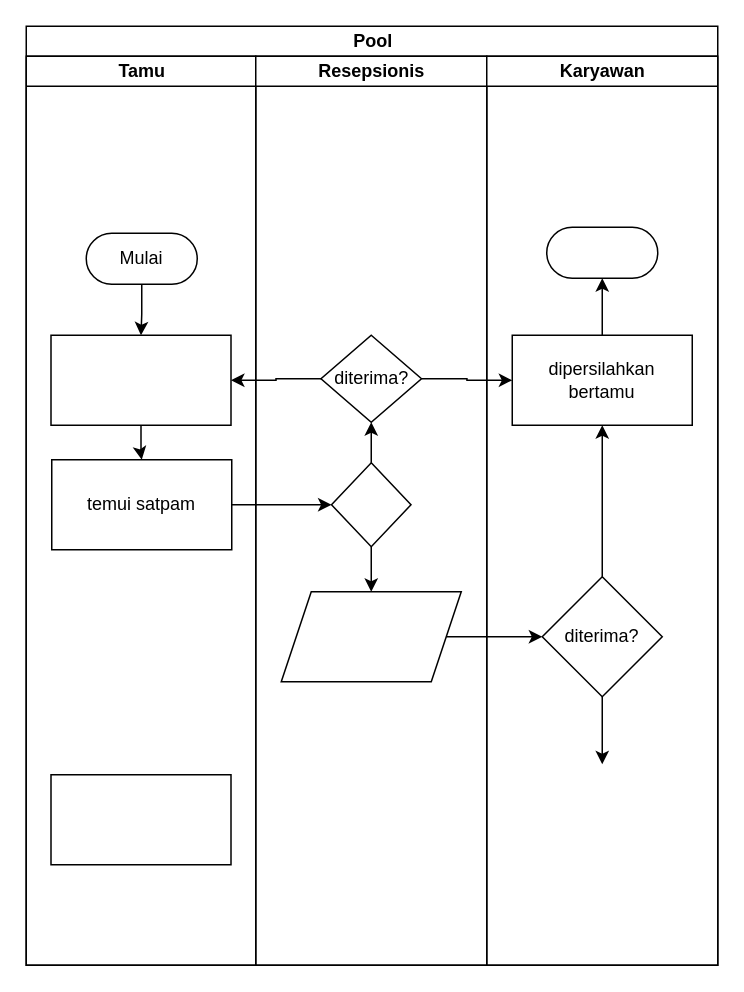
The diagram is 744 pixels wide and 992 high, and some of its shapes have lost their labels. Here are the shapes that lost their labels. From the top down, the centre of each, then its label:
At point (601, 252): "Selesai".
At point (140, 379): "datang ke kantor".
At point (370, 504): "janji?".
At point (370, 636): "input tamu".
